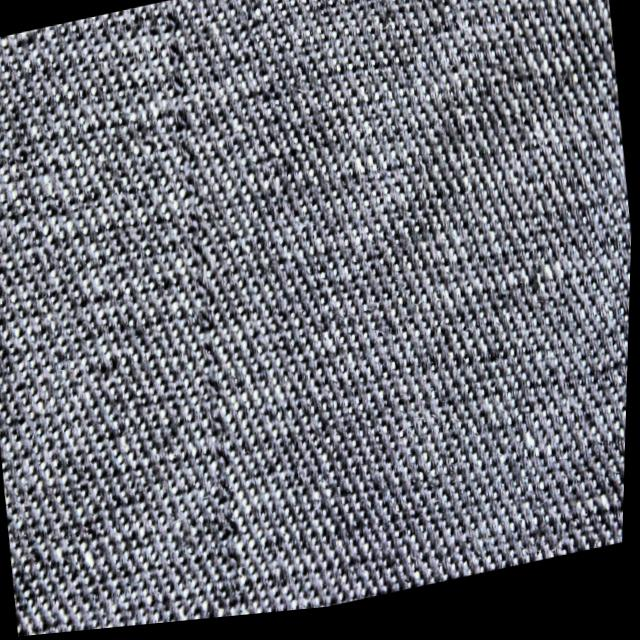Hole: (188, 337, 253, 520), (161, 153, 225, 328), (147, 0, 206, 158)
